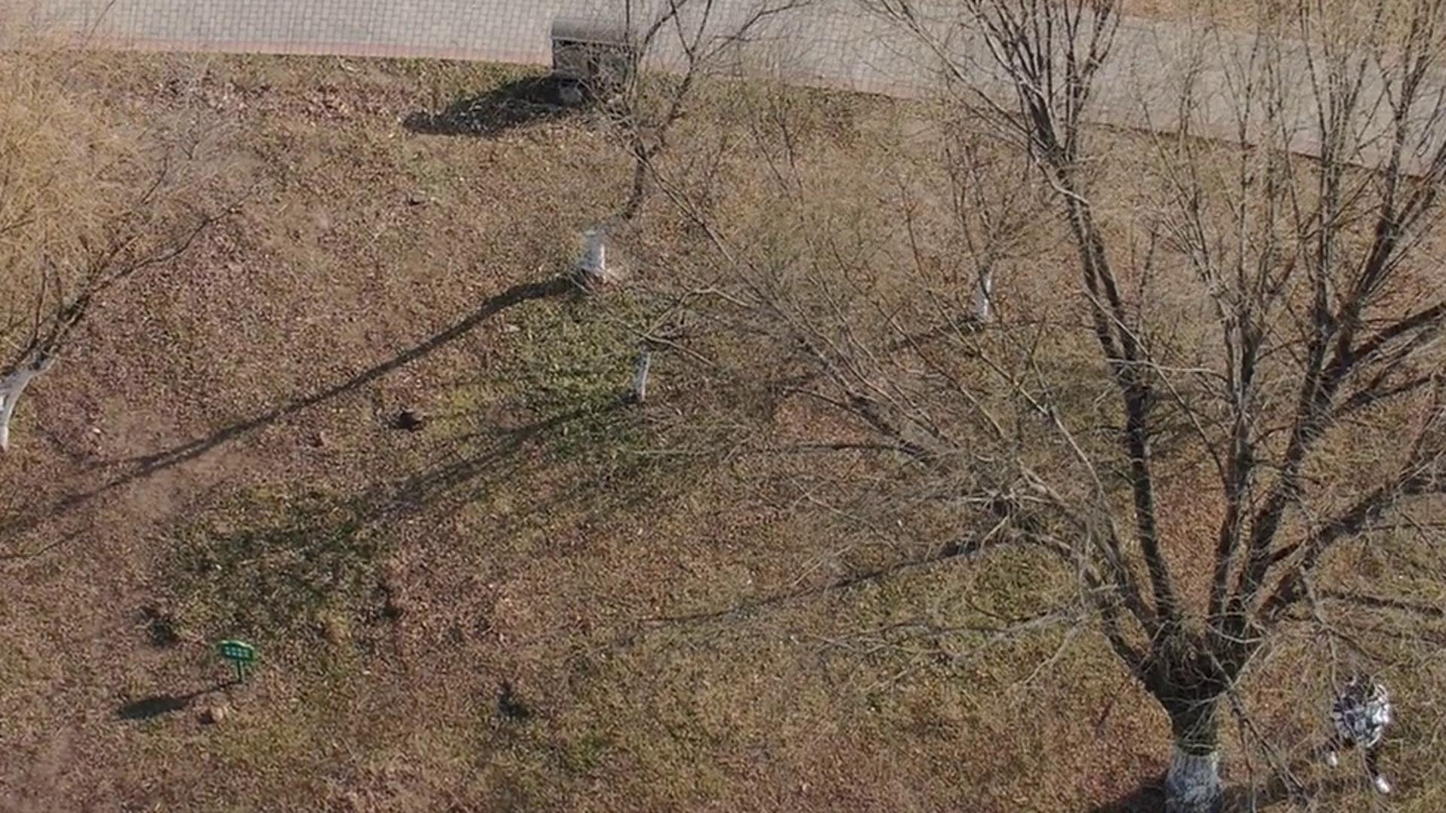human: (1336, 700, 1400, 801)
